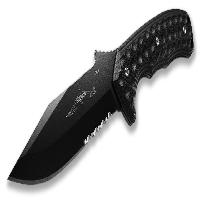knife: (3, 3, 192, 188)
